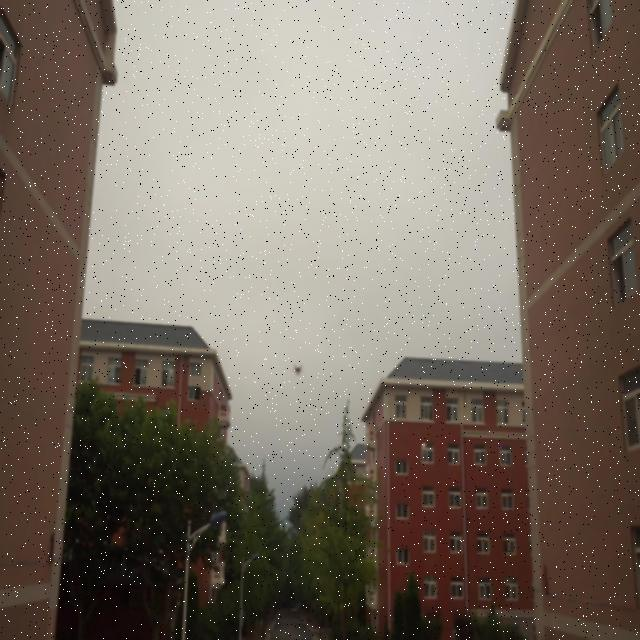UAV: (290, 364, 304, 377)
